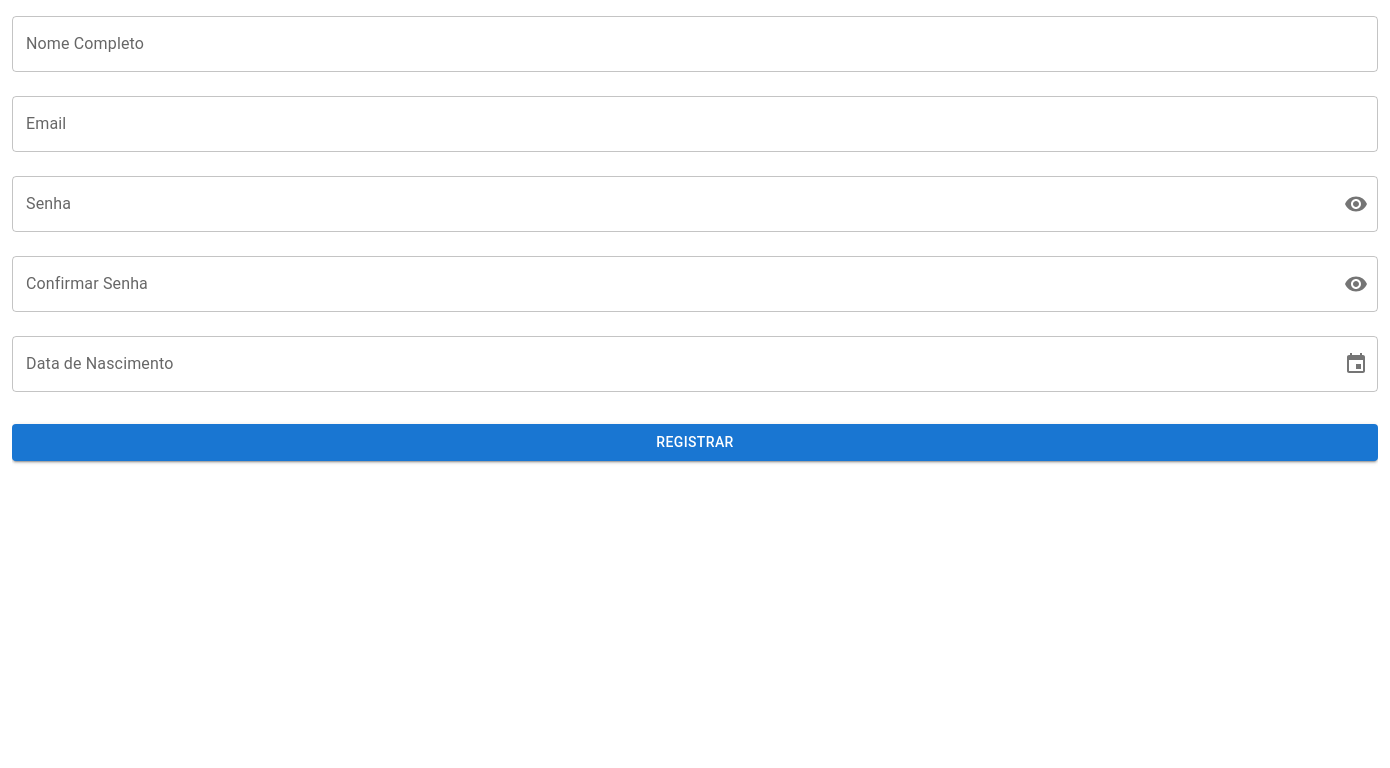
Test: RegisterForm › shows required error when password is empty
Clear the password field labelled "Senha" at (670, 204), box [12,176,1328,232]
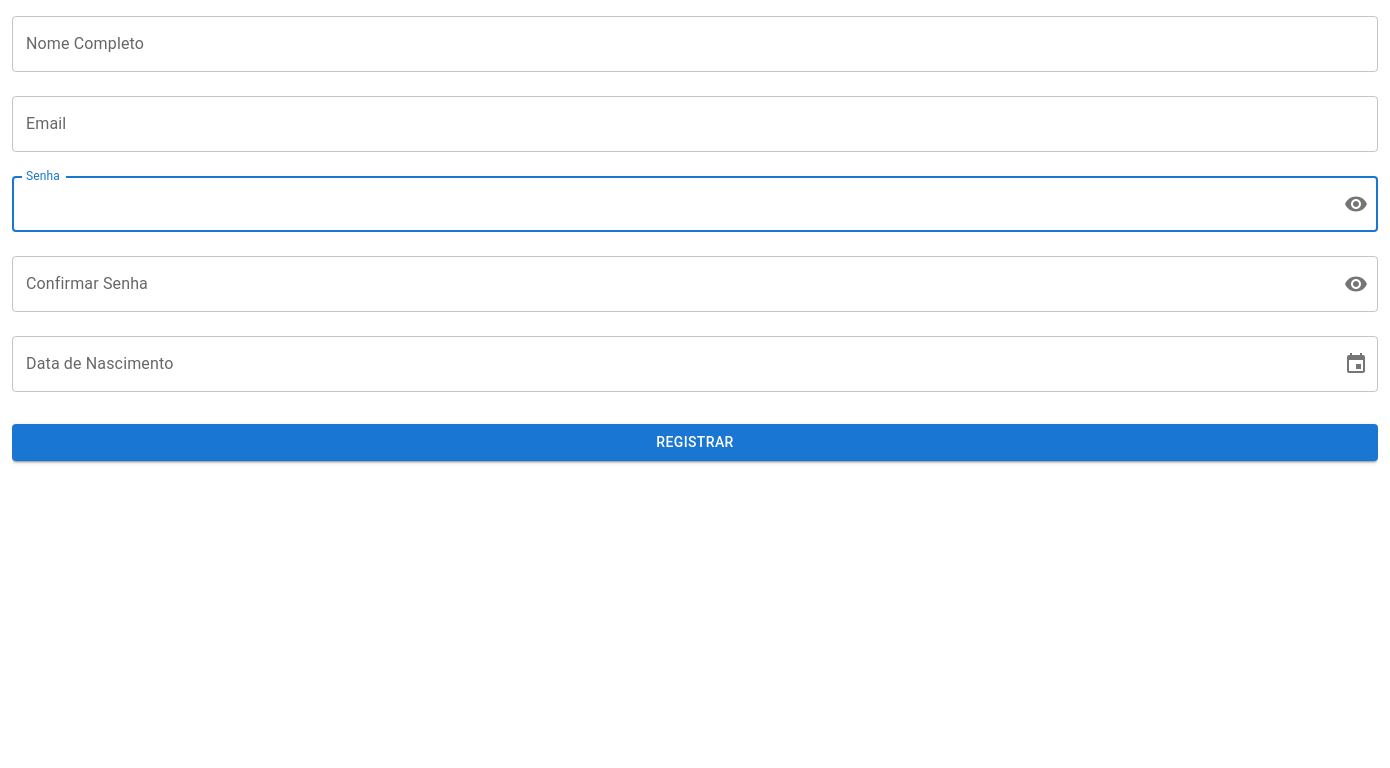
Type "123456" into the password field labelled "Confirmar Senha".
click(670, 284); type("123456")  # box [12,256,1328,312]
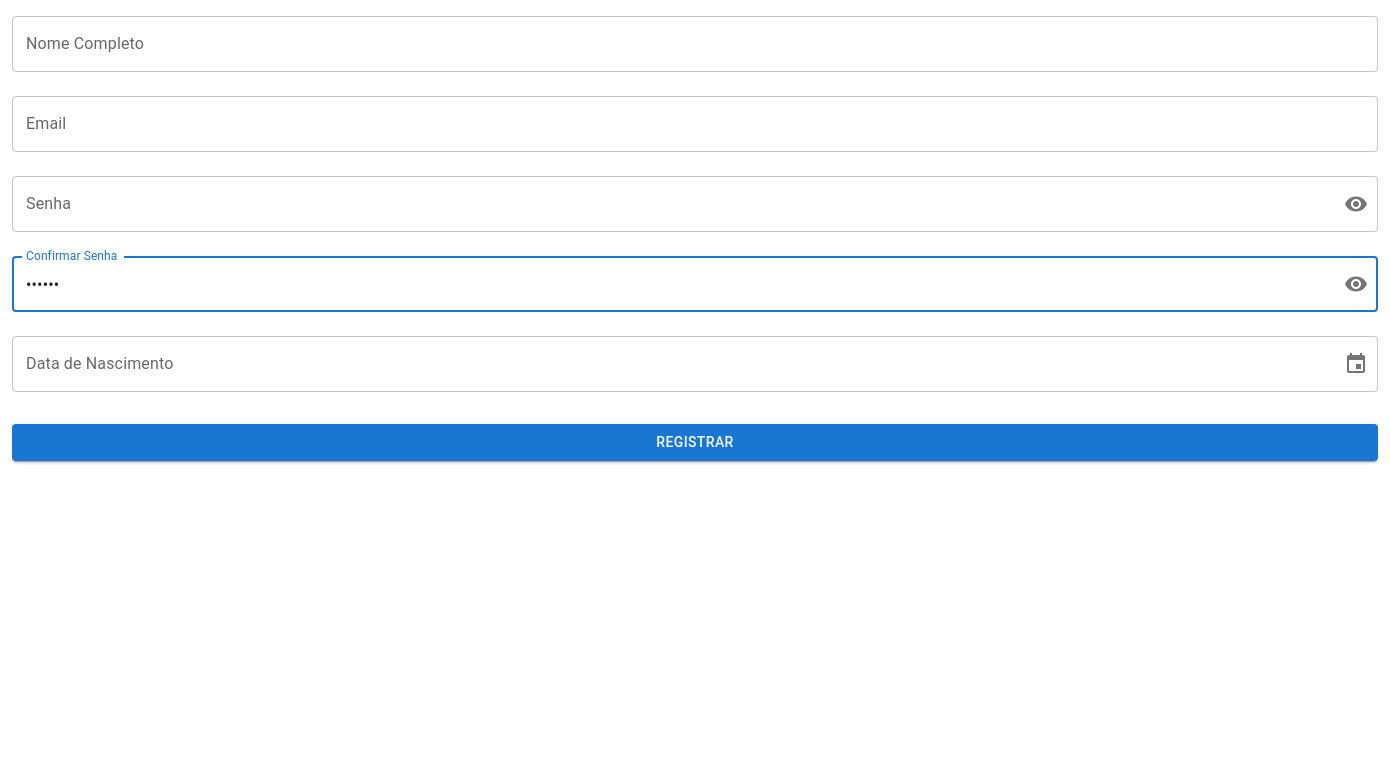
Click the button "Registrar".
click(695, 442)  # box [12,424,1378,460]
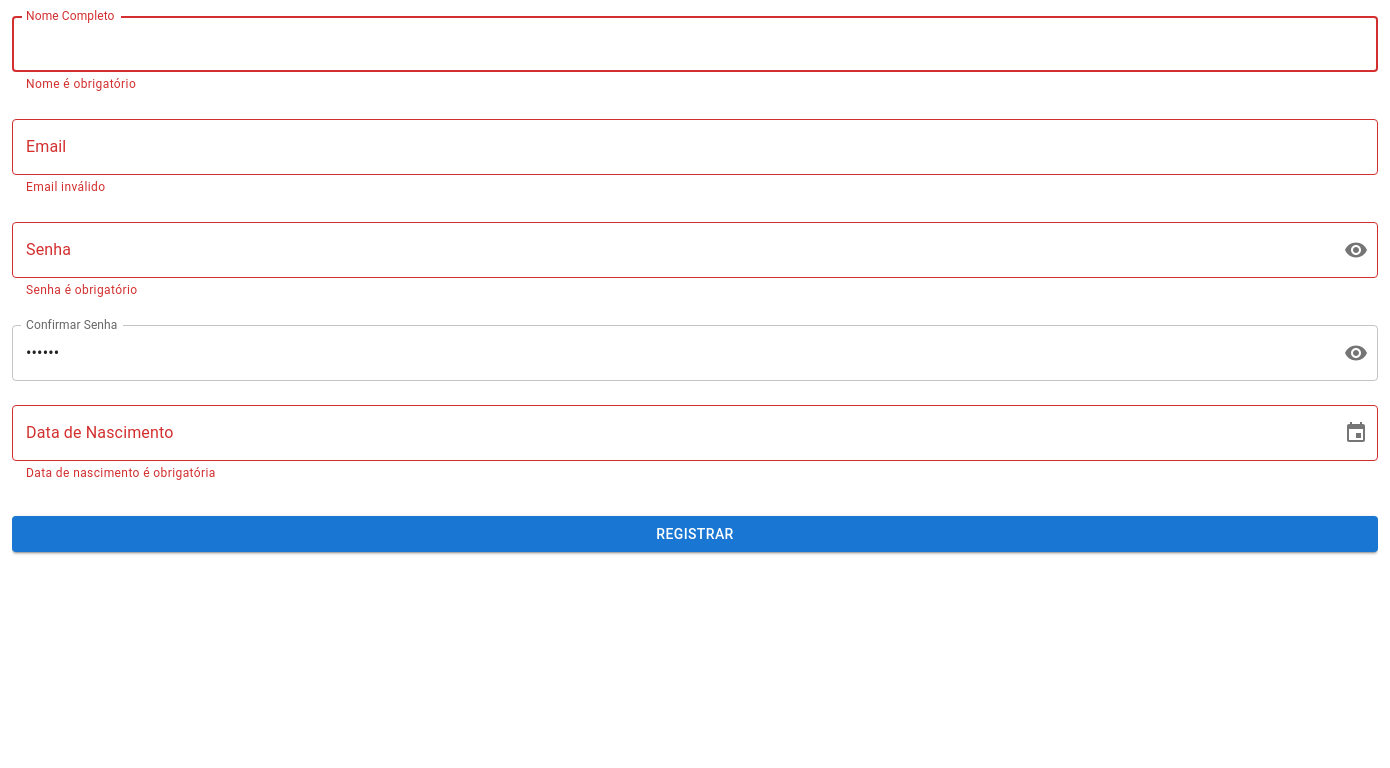
Expected: the text "Senha é obrigatório" is shown, [26,283,138,297]
